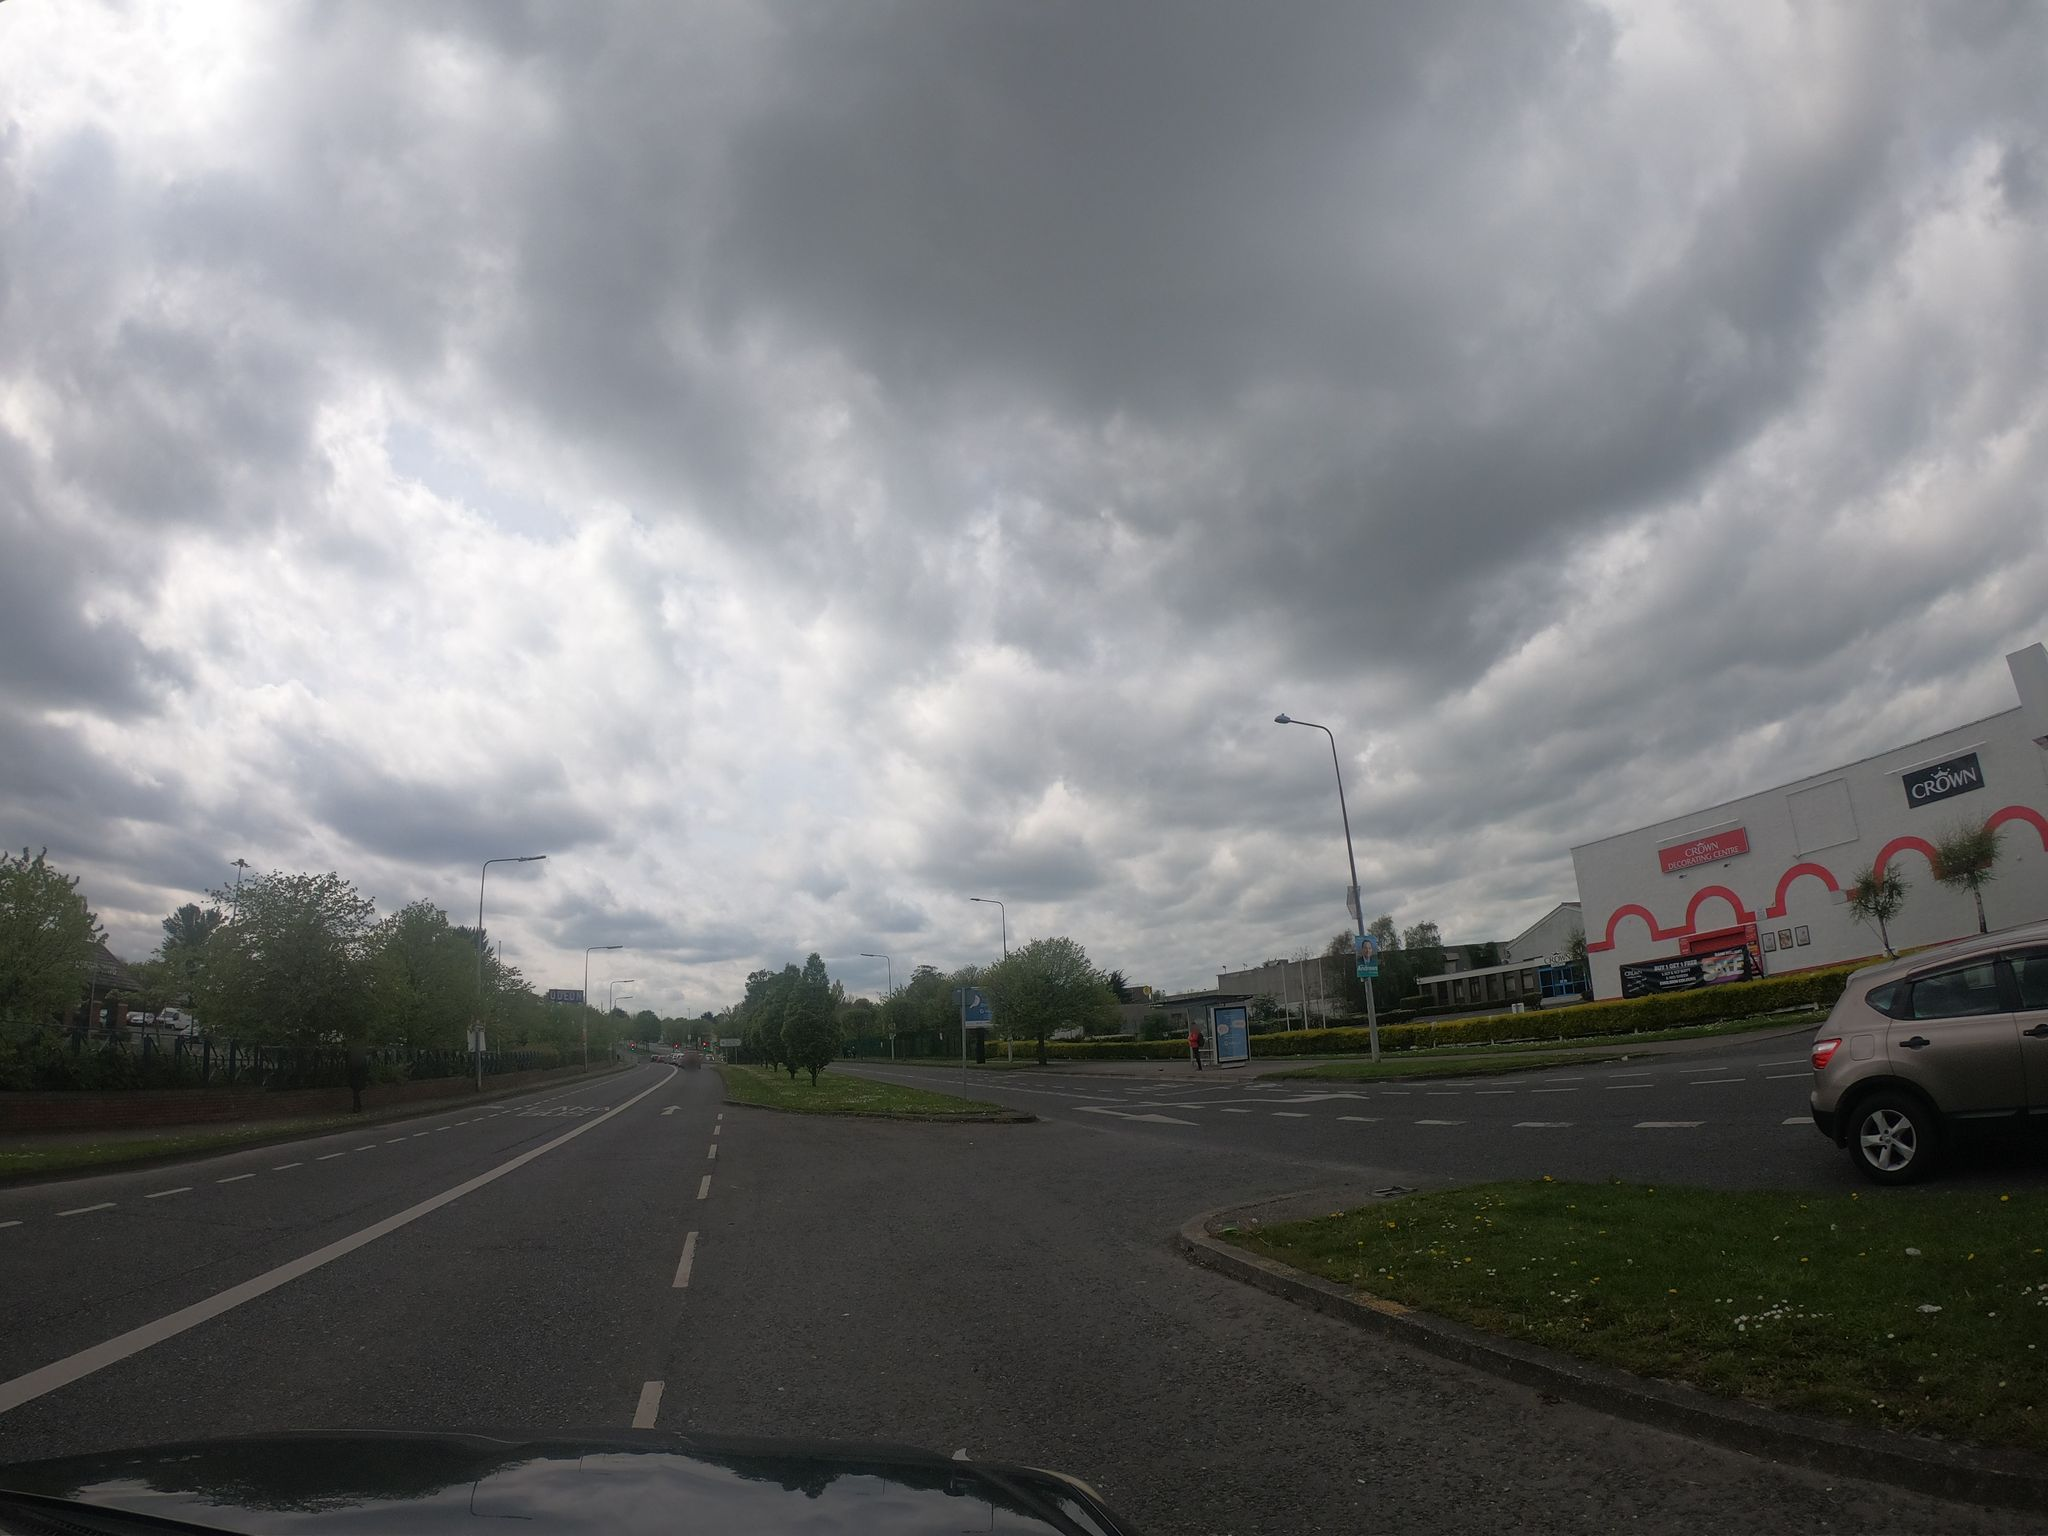vinyl banner: (1616, 942, 1763, 1012)
